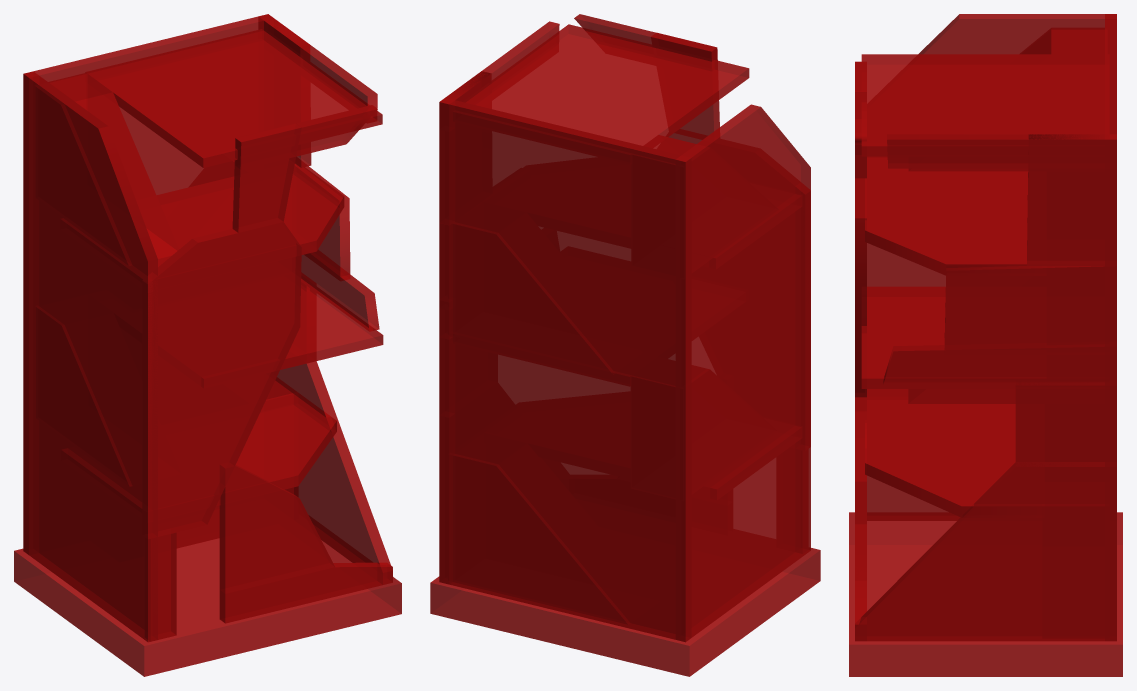
Rendered from SM_Bld_Village_House_04_Destroyed_Collision.fbx.
3 views of the same model, side by side, from view 1: azimuth 30°, elevation 25°; view 2: azimuth 150°, elevation 25°; view 3: azimuth 270°, elevation 25° (orthographic). The views are drawn at different scales.
Visible parts, largest first — view 1: SM_Bld_Village_House_04_Destroyed_Collision; view 2: SM_Bld_Village_House_04_Destroyed_Collision; view 3: SM_Bld_Village_House_04_Destroyed_Collision.
Part boxes in pixels (x1,y1,x2,y2): SM_Bld_Village_House_04_Destroyed_Collision: [14, 14, 401, 676]; SM_Bld_Village_House_04_Destroyed_Collision: [430, 14, 820, 676]; SM_Bld_Village_House_04_Destroyed_Collision: [849, 14, 1122, 676].
Bounding box in the file's own units: 643 × 1211 × 563.
